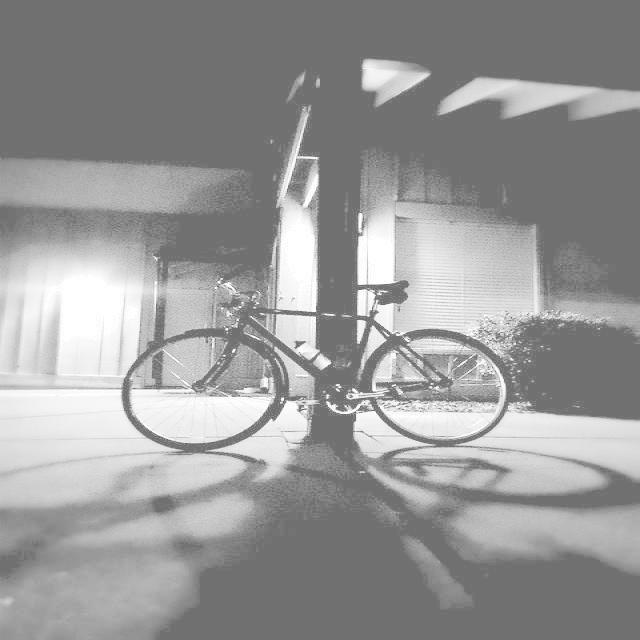Bicycle: (128, 275, 510, 454)
